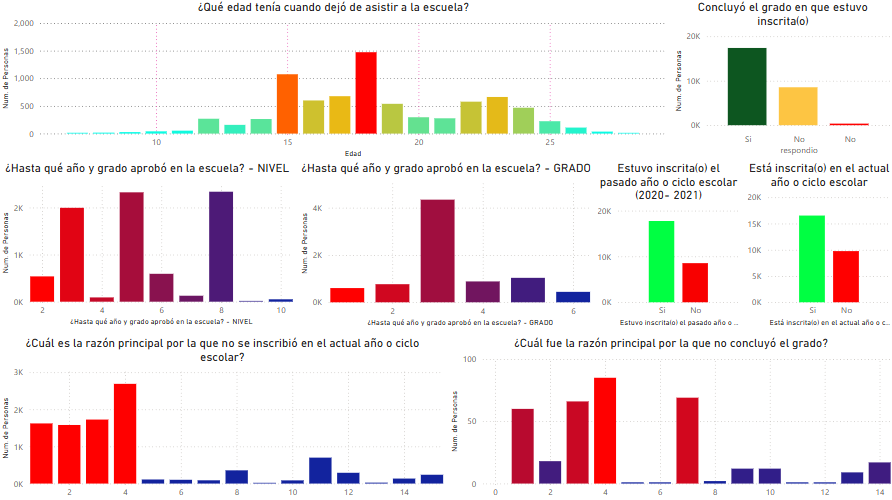

This screenshot's page, from the dashboard's own definition file:
{"tool":"powerbi","page":{"name":"Desercion Escolar","canvas":[1280,720],"ordinal":2},"visuals":[{"type":"clusteredColumnChart","title":"Concluyó el grado en que estuvo inscrita(o)","fields":{"Y":["CountNonNull(Enape 2021.SEXO)"],"Category":["Enape 2021.Concluyó el grado en que estuvo inscrita(o)"]},"box":[961.2,0,319.4,229.9],"z":1000},{"type":"clusteredColumnChart","title":"¿Cuál es la razón principal por la que no se inscribió en el actual año o ciclo escolar?","fields":{"Y":["CountNonNull(Enape 2021.SEXO)"],"Category":["Enape 2021.¿Cuál es la razón principal por la que no se inscribió en el actual año o ciclo escolar?"]},"box":[0,479.8,640.9,240.8],"z":2000},{"type":"clusteredColumnChart","title":"¿Cuál fue la razón principal por la que no concluyó el grado?","fields":{"Category":["Enape 2021.¿Cuál fue la razón principal por la que no concluyó el grado?"],"Y":["CountNonNull(Enape 2021.SEXO)"]},"box":[640.9,479.8,640,240.8],"z":3000},{"type":"clusteredColumnChart","title":"¿Qué edad tenía cuando dejó de asistir a la escuela?","fields":{"Category":["Enape 2021.¿Qué edad tenía cuando dejó de asistir a la escuela?"],"Y":["CountNonNull(Enape 2021.SEXO)"]},"box":[0,0,958.2,229.9],"z":4000},{"type":"clusteredColumnChart","title":"¿Hasta qué año y grado aprobó en la escuela? - GRADO","fields":{"Category":["Enape 2021.¿Hasta qué año y grado aprobó en la escuela? - GRADO"],"Y":["CountNonNull(Enape 2021.SEXO)"]},"box":[426.7,229.8,425.3,240.9],"z":5000},{"type":"clusteredColumnChart","title":"¿Hasta qué año y grado aprobó en la escuela? - NIVEL","fields":{"Category":["Enape 2021.¿Hasta qué año y grado aprobó en la escuela? - NIVEL"],"Y":["CountNonNull(Enape 2021.SEXO)"]},"box":[0,229.7,426,240],"z":6000},{"type":"clusteredColumnChart","title":"Está inscrita(o) en el actual año o ciclo escolar","fields":{"Category":["Enape 2021.Está inscrita(o) en el actual año o ciclo escolar"],"Y":["CountNonNull(Enape 2021.SEXO)"]},"box":[1065.1,229.7,214.9,240.8],"z":7000},{"type":"clusteredColumnChart","title":"Estuvo inscrita(o) el pasado año o ciclo escolar (2020- 2021)","fields":{"Category":["Enape 2021.Estuvo inscrita(o) el pasado año o ciclo escolar (2020- 2021)"],"Y":["CountNonNull(Enape 2021.SEXO)"]},"box":[852.1,229.7,213,240.8],"z":8000}]}

Visuals, with their boxes in screenshot pixels (x1, y1, x2, y2), scaled from the page's 1280x720 canvas onto the 892x500 screenshot:
"Concluyó el grado en que estuvo inscrita(o)" clusteredColumnChart: bbox(670, 0, 891, 160)
"¿Cuál es la razón principal por la que no se inscribió en el actual año o ciclo escolar?" clusteredColumnChart: bbox(0, 333, 447, 499)
"¿Cuál fue la razón principal por la que no concluyó el grado?" clusteredColumnChart: bbox(447, 333, 891, 499)
"¿Qué edad tenía cuando dejó de asistir a la escuela?" clusteredColumnChart: bbox(0, 0, 668, 160)
"¿Hasta qué año y grado aprobó en la escuela? - GRADO" clusteredColumnChart: bbox(297, 160, 594, 327)
"¿Hasta qué año y grado aprobó en la escuela? - NIVEL" clusteredColumnChart: bbox(0, 160, 297, 326)
"Está inscrita(o) en el actual año o ciclo escolar" clusteredColumnChart: bbox(742, 160, 891, 327)
"Estuvo inscrita(o) el pasado año o ciclo escolar (2020- 2021)" clusteredColumnChart: bbox(594, 160, 742, 327)
